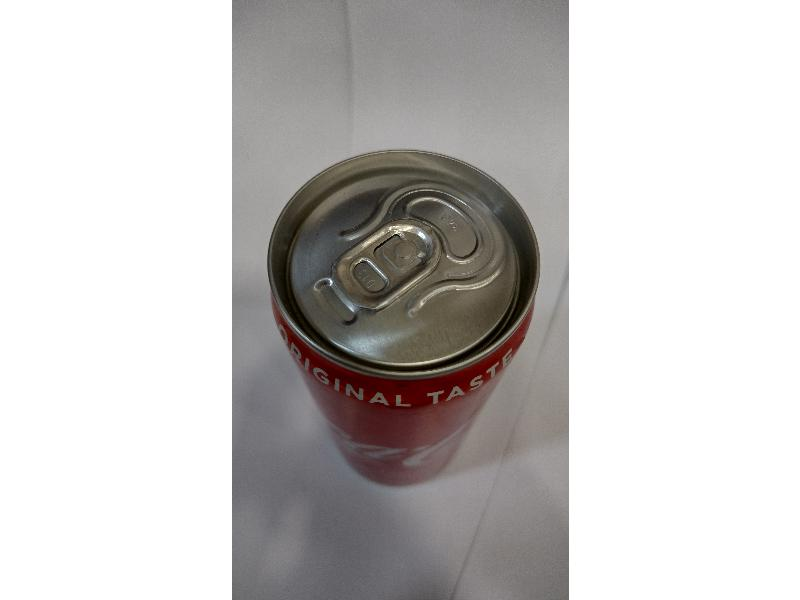can: (266, 148, 541, 483)
